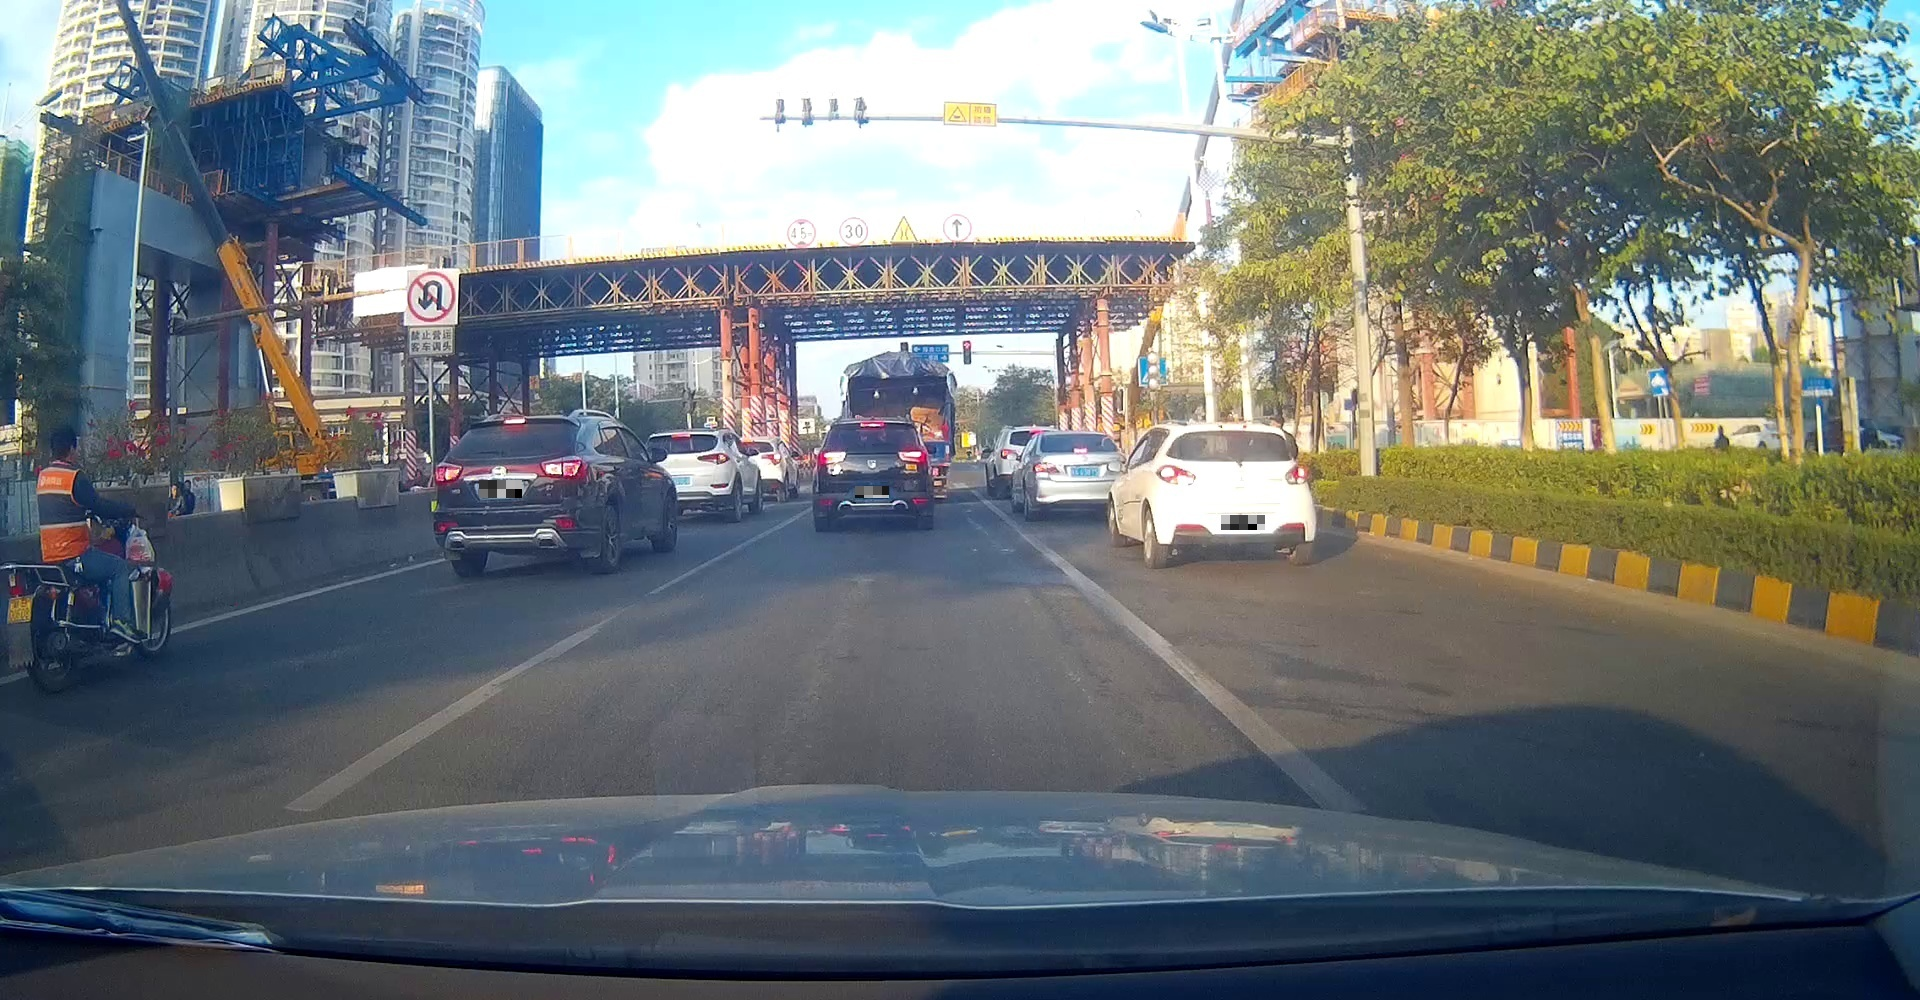L_light: (1156, 464, 1196, 486), (433, 462, 463, 484), (817, 451, 847, 464)
R_light: (540, 456, 583, 477), (1286, 464, 1310, 484), (898, 451, 928, 463)
T_light: (503, 418, 526, 425), (860, 423, 884, 428), (1225, 431, 1244, 435)
day-brake: (430, 414, 590, 574), (1153, 423, 1316, 563)
day-no: (811, 418, 935, 530)
plate_1: (479, 480, 522, 497)
plate_2: (855, 486, 889, 497)
plate_3: (1222, 515, 1265, 530)
